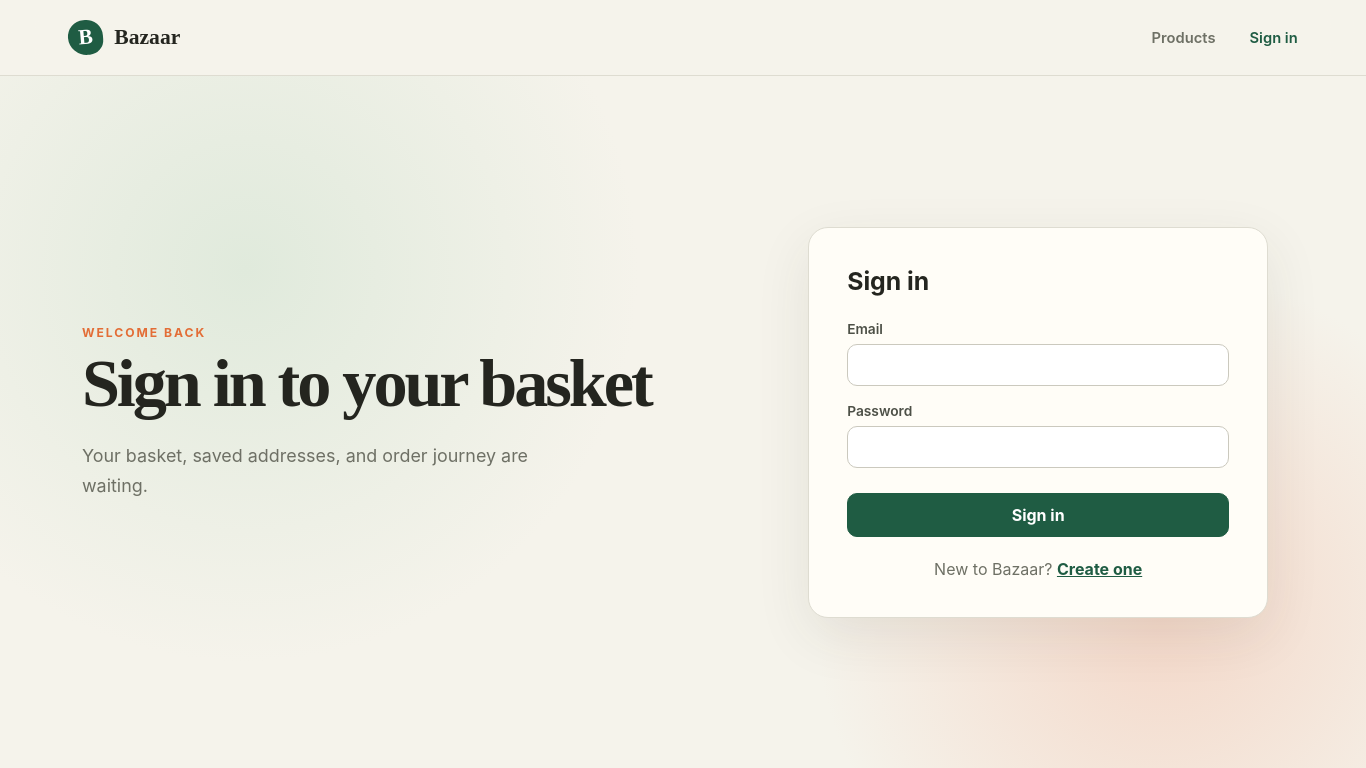
Test: commerce web › shows a mapped message for failed login
In the field labelled "Email": (1038, 364) [847,344,1229,386], type "buyer@example.com"
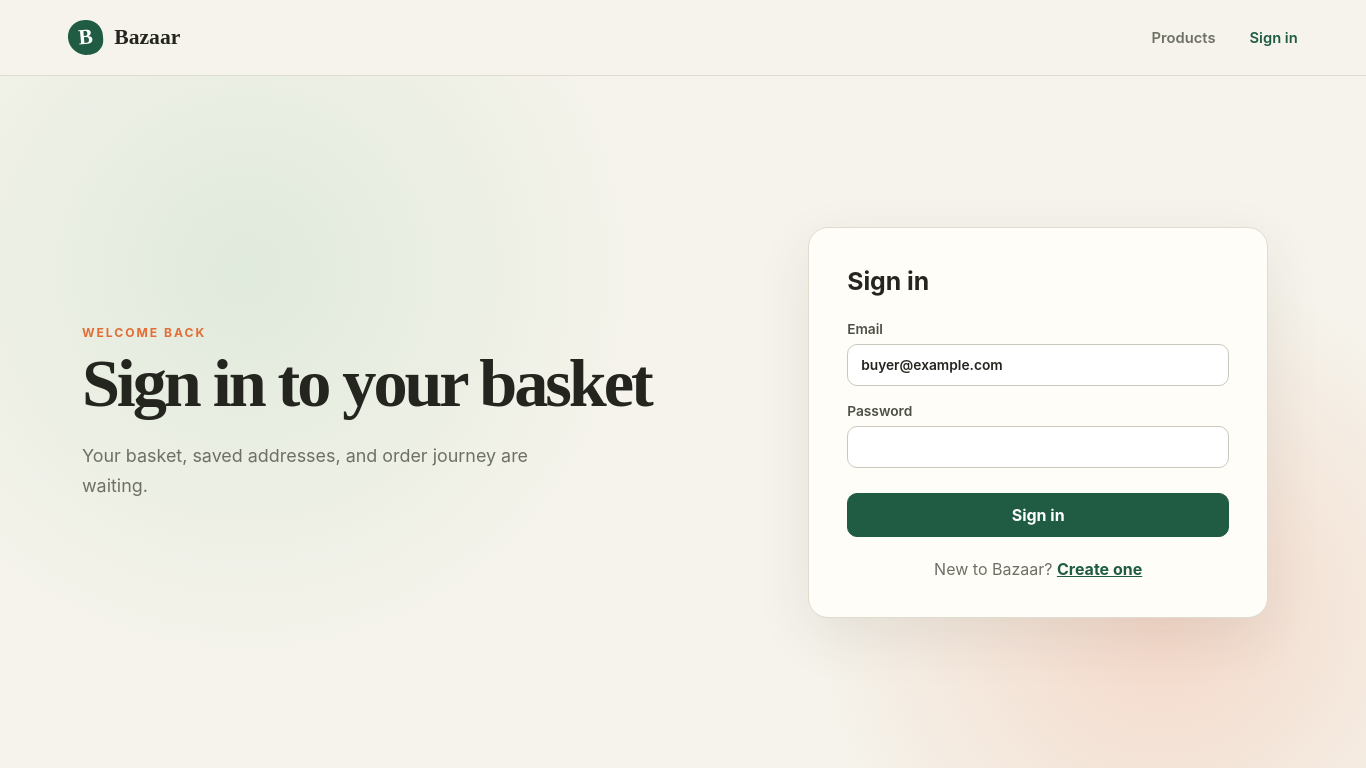
In the password field labelled "Password": (1038, 446) [847,426,1229,468], type "wrong"
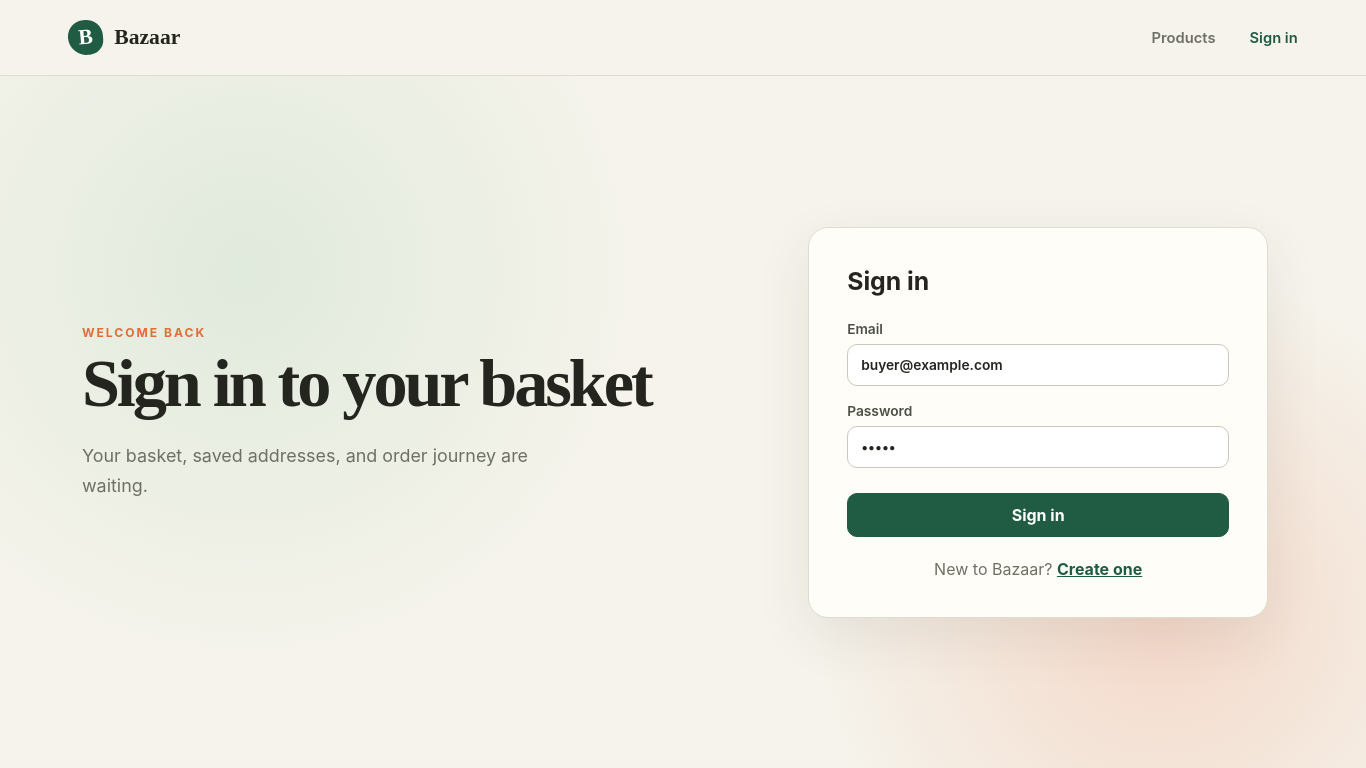
Click the button "Sign in": (1038, 514) [847,492,1229,536]
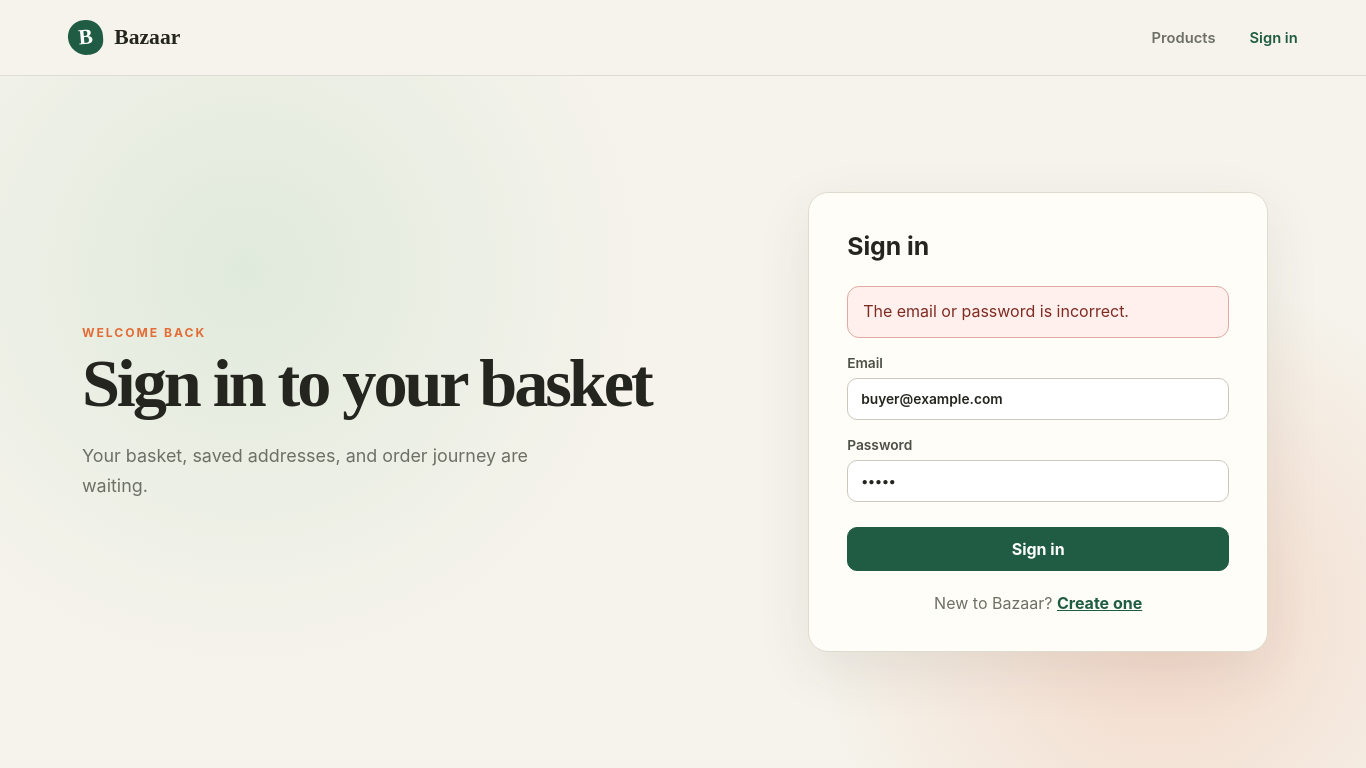
expect the message reads "The email or password is incorrect.": met, box [863,301,1129,321]
